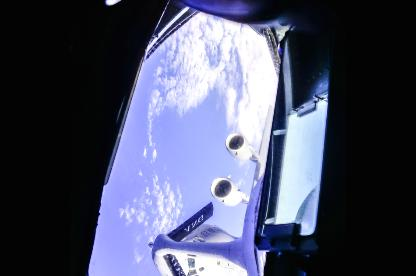C2: (152, 104, 275, 275)
